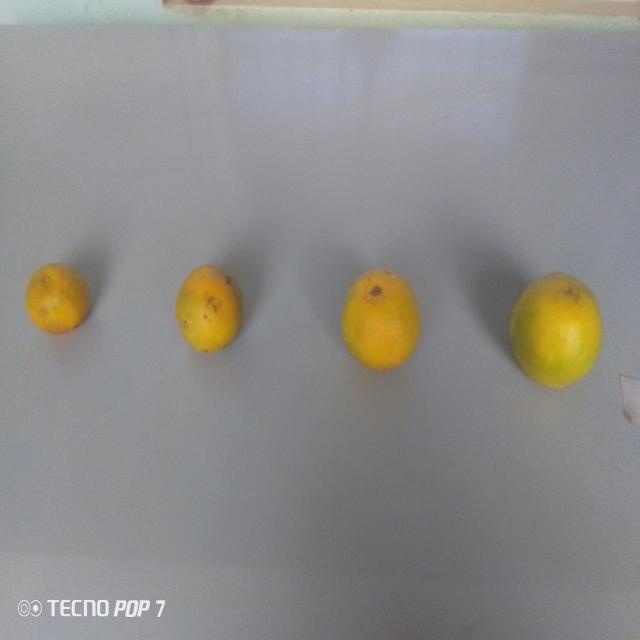agrume: (496, 258, 599, 400), (338, 268, 424, 375), (173, 255, 245, 361), (23, 256, 93, 343)
